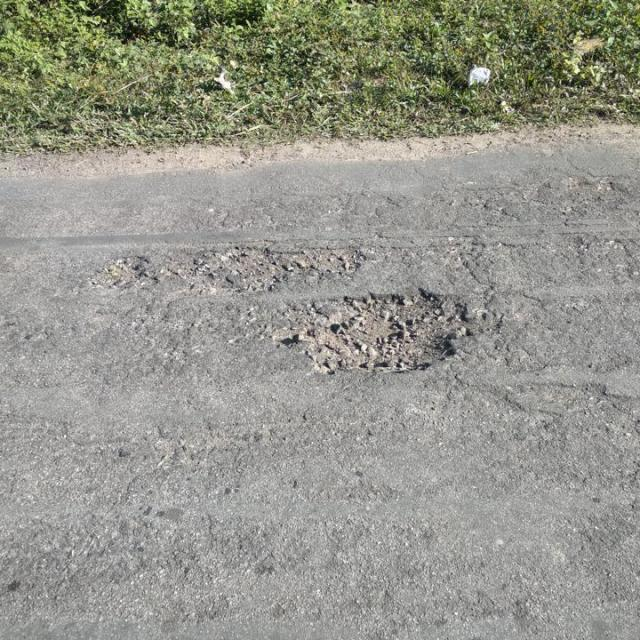buraco: (261, 284, 474, 387), (81, 239, 373, 302), (289, 286, 481, 377), (174, 242, 370, 294), (84, 252, 164, 296)
